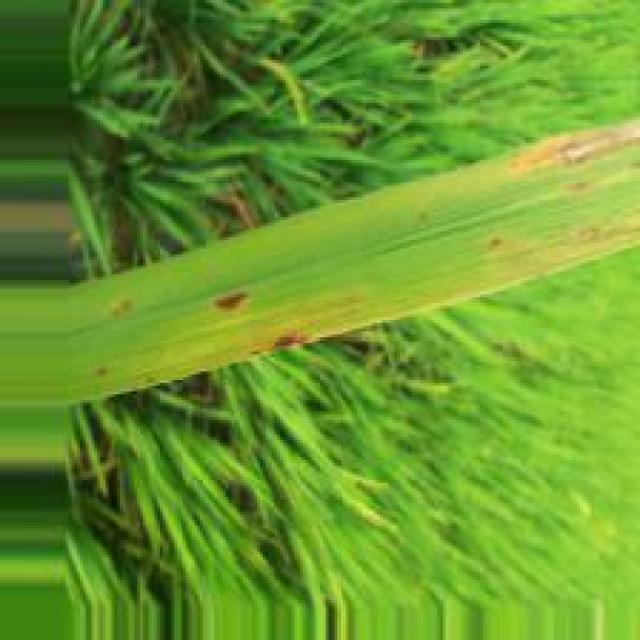Leaf_Blast: (511, 124, 640, 170), (209, 287, 258, 316), (271, 331, 321, 354)
